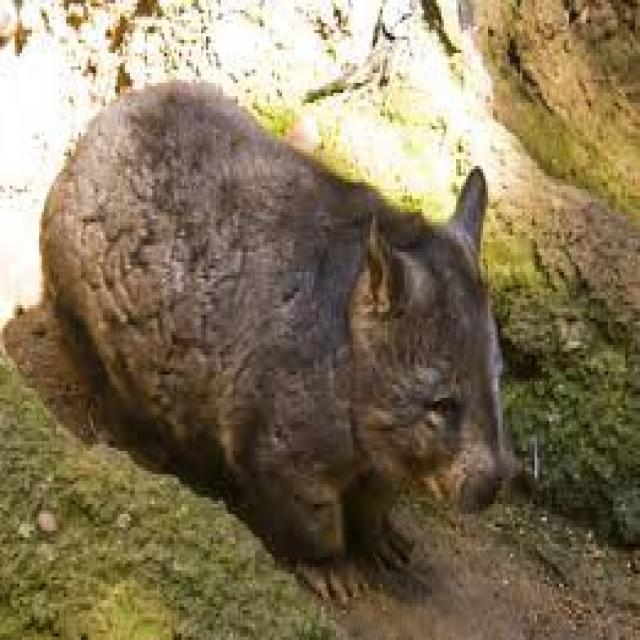Wombat: (41, 71, 515, 597)
